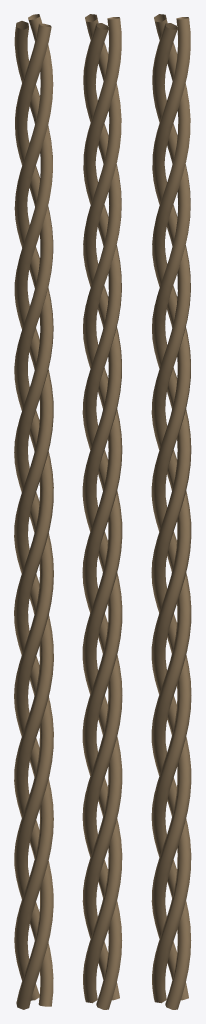
The model's file is SM_Rope.fbx.
3 views of the same model, side by side, from view 1: azimuth 90°, elevation 25°; view 2: azimuth 150°, elevation 25°; view 3: azimuth 270°, elevation 25° (orthographic).
Visible parts, largest first — view 1: SM_Rope; view 2: SM_Rope; view 3: SM_Rope.
Part boxes in pixels (left/top/right/bottom): SM_Rope: left=14, top=14, right=53, bottom=1009; SM_Rope: left=82, top=14, right=122, bottom=1009; SM_Rope: left=151, top=14, right=191, bottom=1009.
Bounding box in the file's own units: 3.69 × 3.7 × 100.
